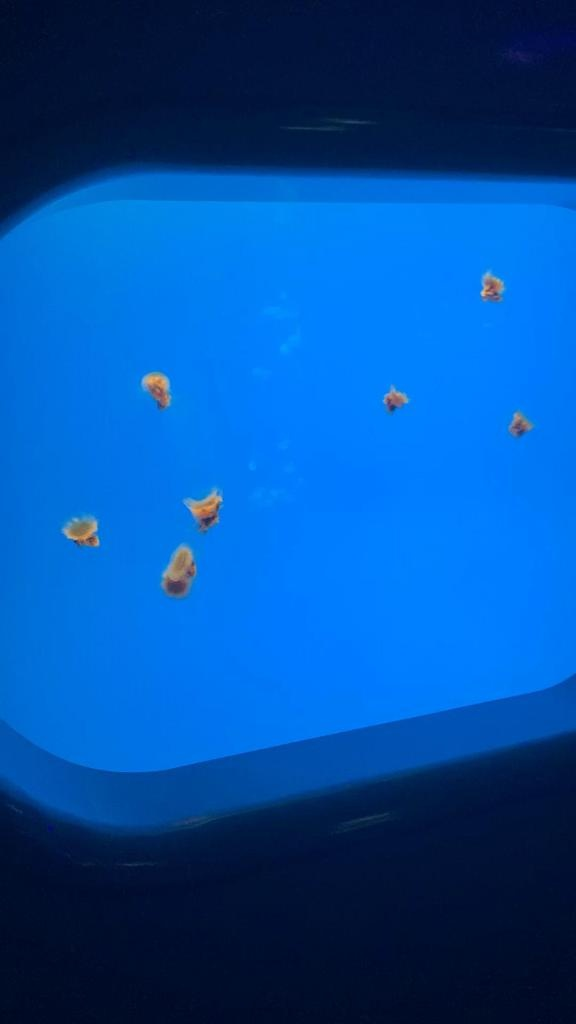jellyfish: (162, 542, 198, 600), (183, 489, 224, 535), (62, 511, 104, 547), (140, 370, 172, 408), (380, 384, 410, 416), (479, 268, 507, 302), (508, 410, 532, 440)
